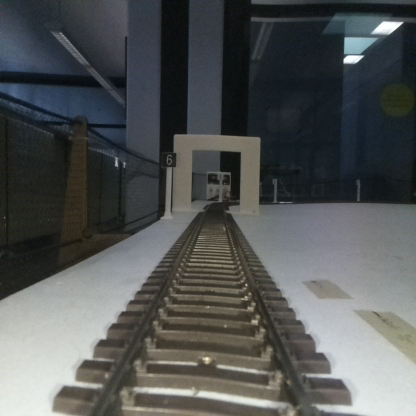black-info-6: (162, 152, 176, 218)
